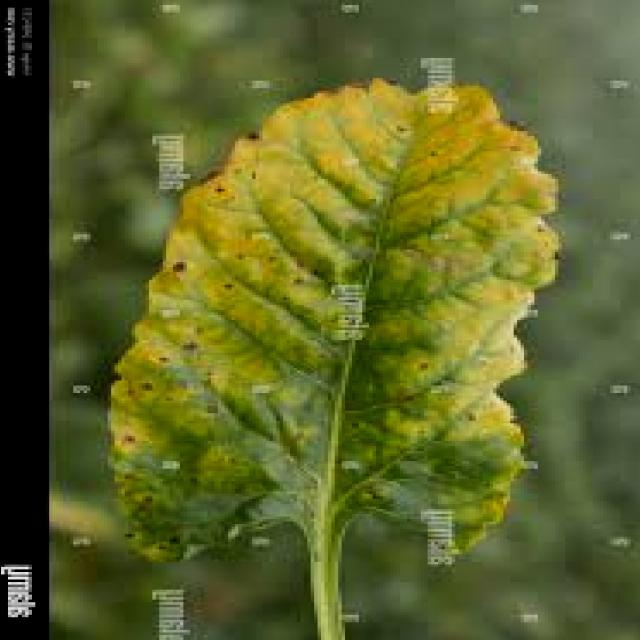leaf: (105, 76, 562, 636)
